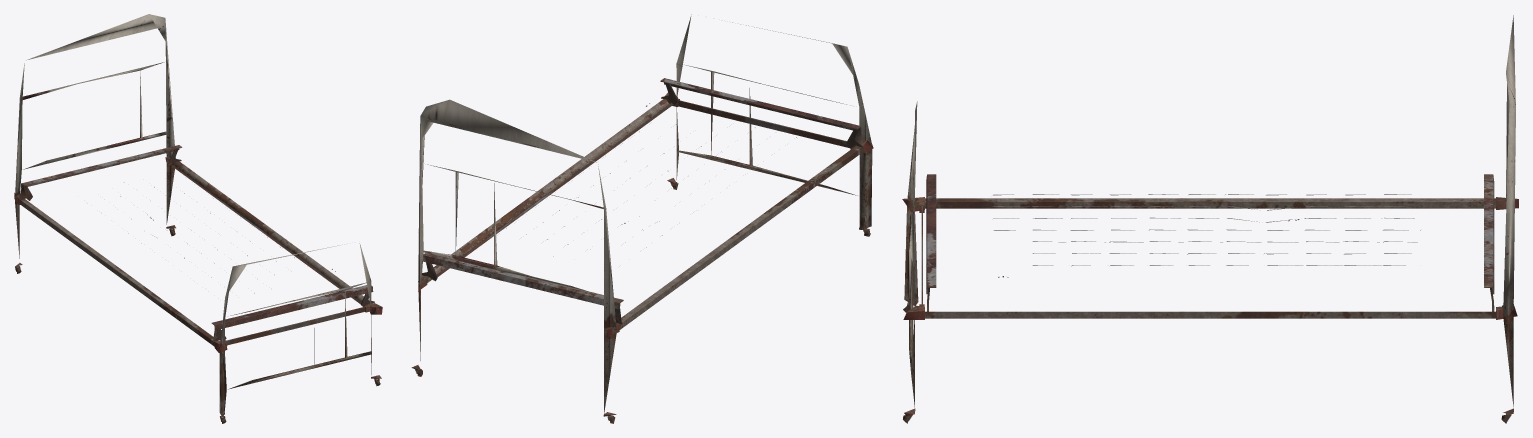
The model's file is bed_frame.glb.
The picture shows the model from 3 angles, left to right: view 1: azimuth 30°, elevation 25°; view 2: azimuth 150°, elevation 25°; view 3: azimuth 270°, elevation 25°; orthographic projection. The views are drawn at different scales.
Visible parts, largest first — view 1: old_bed_frame; view 2: old_bed_frame; view 3: old_bed_frame.
Boxes of the visible parts, x1=… form: old_bed_frame: x1=14, y1=14, x2=382, y2=423; old_bed_frame: x1=411, y1=14, x2=873, y2=423; old_bed_frame: x1=902, y1=15, x2=1518, y2=423.
Size of the model in its own units: 0.8966 by 1.19 by 2.
Materials: 1 (1 with a texture image).
